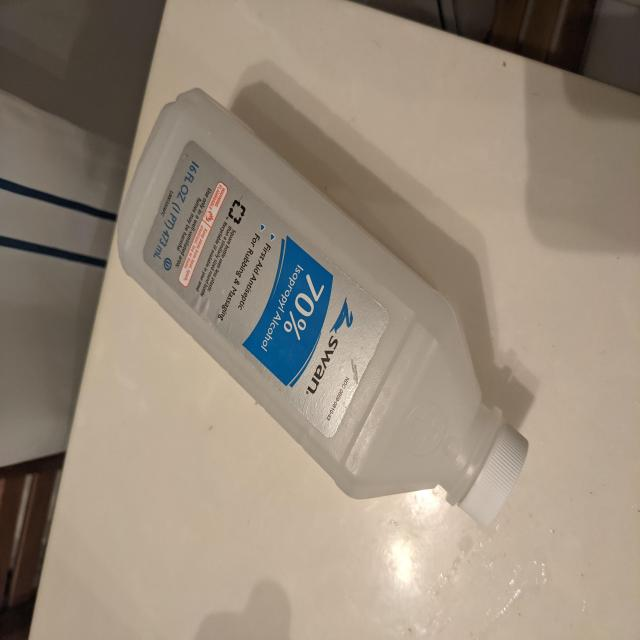litter: (117, 89, 526, 532)
